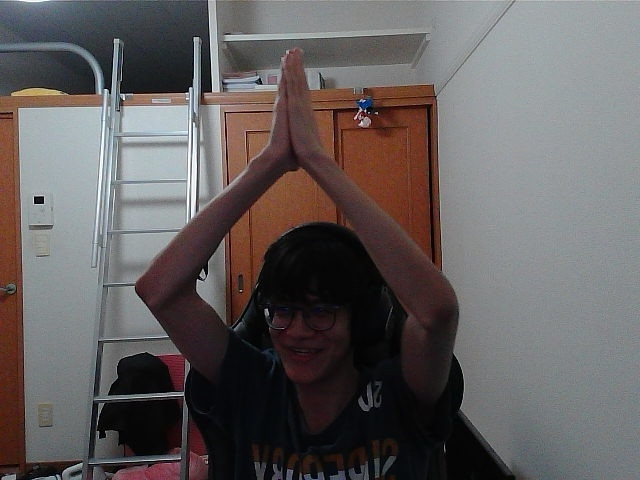pray: (286, 54, 303, 151)
